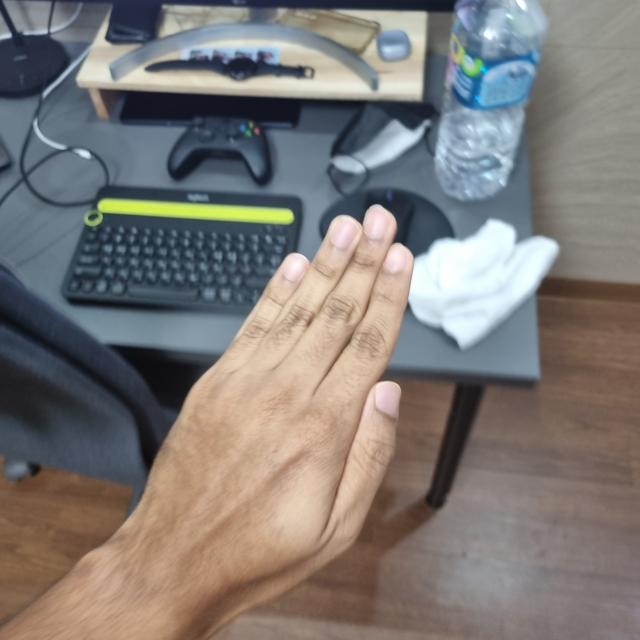Paper: (134, 209, 423, 599)
